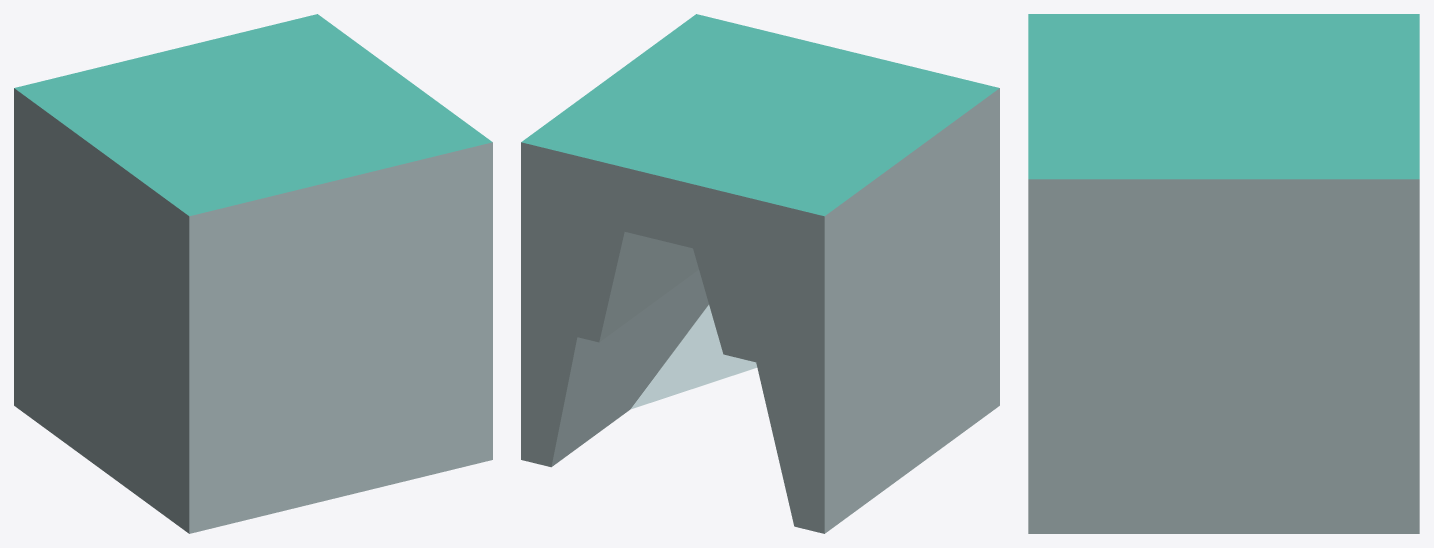
File: cliff_blockCave_stone.glb
The picture shows the model from 3 angles, left to right: view 1: azimuth 30°, elevation 25°; view 2: azimuth 150°, elevation 25°; view 3: azimuth 270°, elevation 25°; orthographic projection. The views are drawn at different scales.
Parts seen in each view (by area): view 1: cliff_blockCave_stone; view 2: cliff_blockCave_stone; view 3: cliff_blockCave_stone.
Part boxes in pixels (bbox=[...]): cliff_blockCave_stone: bbox=[14, 14, 492, 533]; cliff_blockCave_stone: bbox=[521, 14, 999, 533]; cliff_blockCave_stone: bbox=[1028, 14, 1419, 533].
Bounding box in the file's own units: 1 × 1 × 1.
